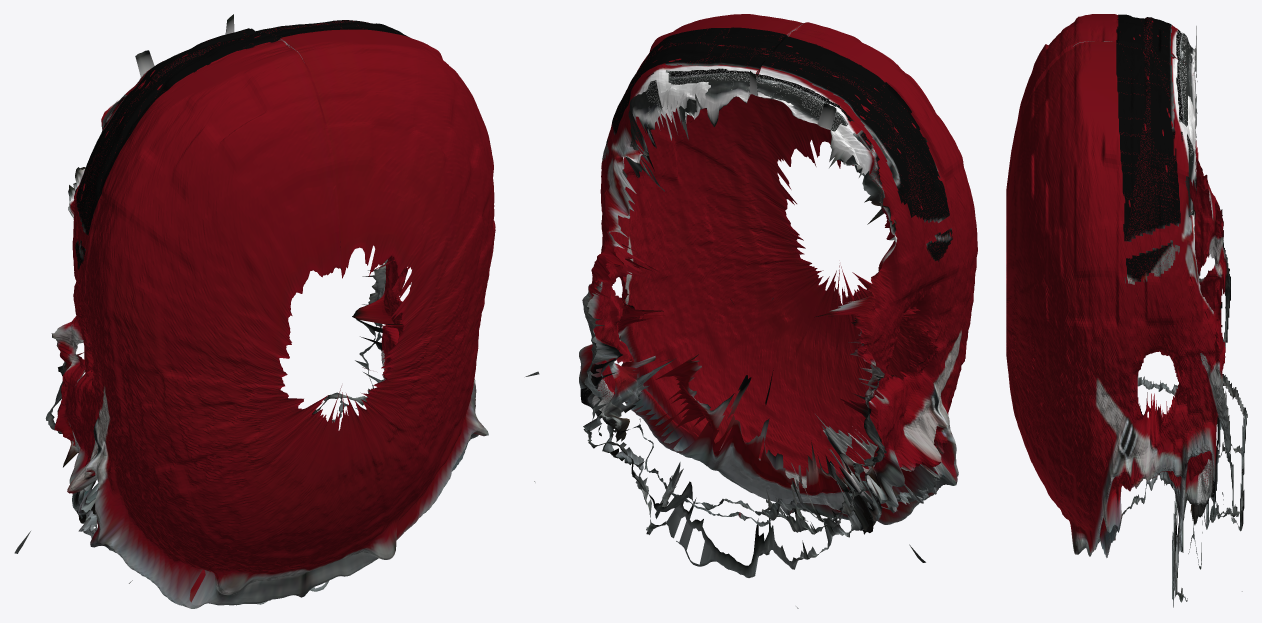
3 views of the same model, side by side, from view 1: azimuth 30°, elevation 25°; view 2: azimuth 150°, elevation 25°; view 3: azimuth 270°, elevation 25° (orthographic). The views are drawn at different scales.
Visible parts, largest first — view 1: geometry_0; view 2: geometry_0; view 3: geometry_0.
Part boxes in pixels (x1,y1,x2,y2): geometry_0: (14,14,495,608); geometry_0: (525,14,977,608); geometry_0: (1006,14,1247,607).
Size of the model in its own units: 1.55 by 1.97 by 0.8043.
Materials: 1 (1 with a texture image).
